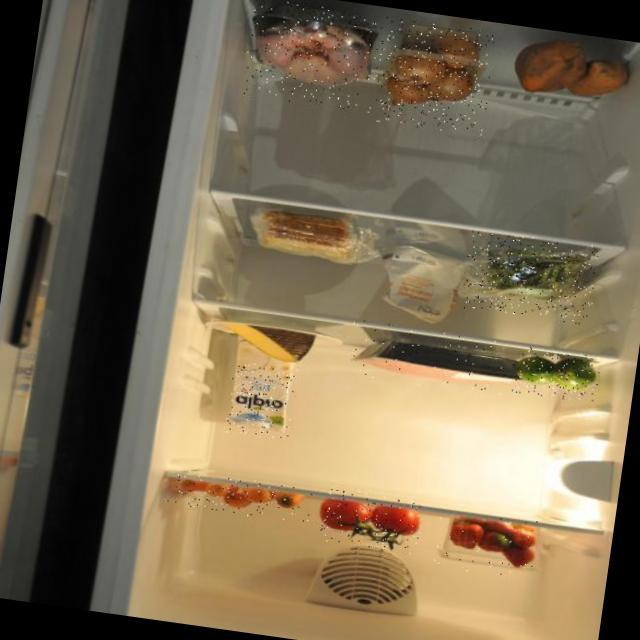Carne pollo: (240, 0, 390, 112)
Cebolla: (376, 16, 497, 136)
Queso: (227, 300, 324, 372)
Tomate: (317, 485, 424, 554)
Zanahoria: (167, 468, 314, 524)
bread: (257, 201, 370, 279)
green beans: (460, 228, 600, 325)
lime: (511, 345, 601, 403)
meat: (343, 318, 531, 400)
milk: (224, 349, 299, 440)
strawberry: (431, 507, 542, 580)
